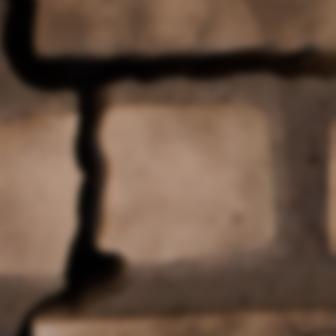brick: (34, 307, 335, 335), (329, 116, 335, 254), (318, 334, 332, 335)
broken_brick: (102, 101, 275, 264), (37, 0, 335, 52), (0, 114, 78, 276)
crack: (0, 0, 335, 335), (287, 320, 335, 335), (333, 0, 335, 22)
